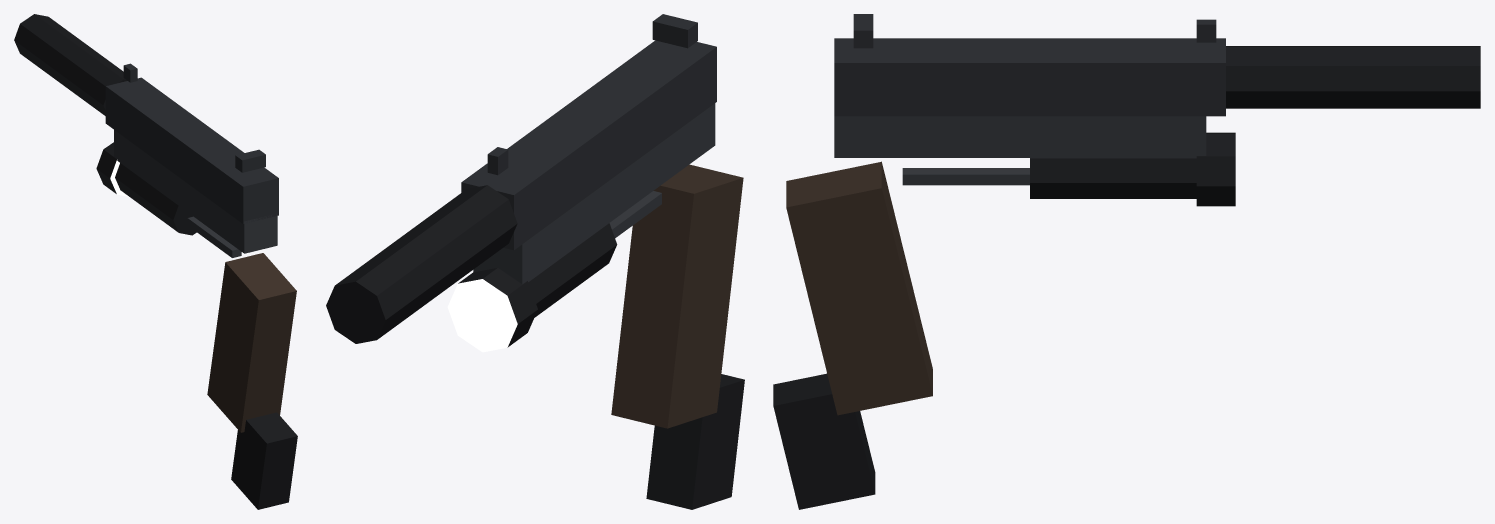
Rendered from w_pistol.glb.
3 views of the same model, side by side, from view 1: azimuth 30°, elevation 25°; view 2: azimuth 150°, elevation 25°; view 3: azimuth 270°, elevation 25° (orthographic). The views are drawn at different scales.
Parts seen in each view (by area): view 1: w_pistol, w_pistol_att_suppressor, w_pistol_att_extmag, w_pistol_att_flashlight; view 2: w_pistol, w_pistol_att_suppressor, w_pistol_att_flashlight, w_pistol_att_extmag; view 3: w_pistol, w_pistol_att_suppressor, w_pistol_att_extmag, w_pistol_att_flashlight.
Part boxes in pixels (x1,y1,x2,y2): w_pistol: (105,63,296,432); w_pistol_att_suppressor: (14,14,127,115); w_pistol_att_extmag: (231,412,297,509); w_pistol_att_flashlight: (96,142,196,235); w_pistol: (461,14,743,428); w_pistol_att_suppressor: (326,185,517,343); w_pistol_att_flashlight: (447,223,617,352); w_pistol_att_extmag: (646,374,744,509); w_pistol: (786,14,1225,415); w_pistol_att_suppressor: (1226,46,1480,108); w_pistol_att_extmag: (773,373,875,509); w_pistol_att_flashlight: (1030,132,1235,206).
Bounding box in the file's own units: 0.04 × 0.2686 × 0.3611.
